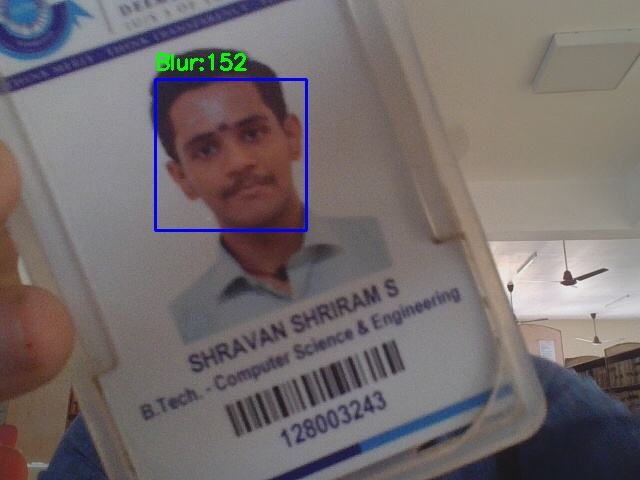fake: (155, 79, 306, 230)
